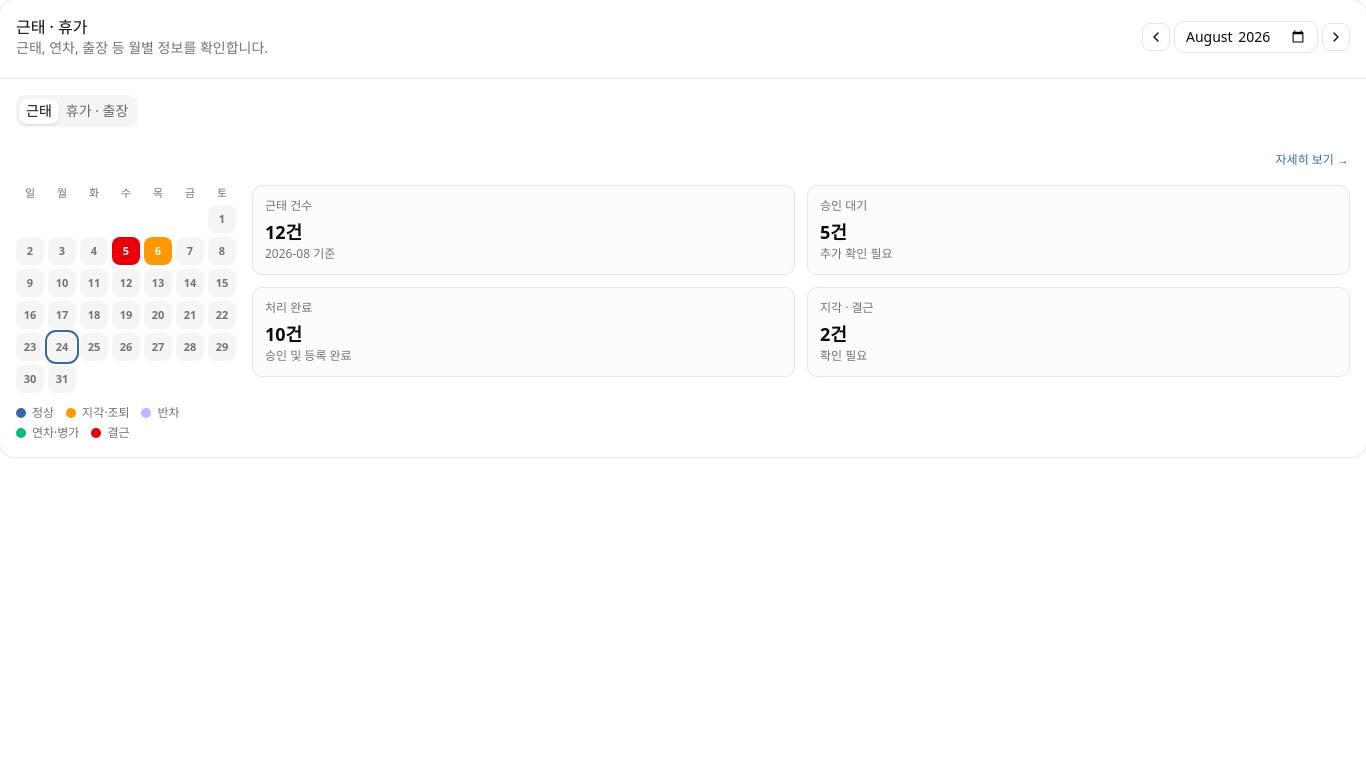
it: PersonalRecordsWidget - 근태 탭(기본 탭) › 통계 타일 4개(근태건수/승인대기/처리완료/지각·결근)와 미니 캘린더를 렌더하고, "자세히 보기" 클릭 시 내 근태 오버레이가 열린다
The image size is (1366, 768).
Expected: the text "12건" is shown, [265, 220, 302, 244]
Expected: the text "5건" is shown, [820, 220, 847, 244]
Click the button "자세히 보기 →".
click(1312, 160)  # box [1274, 151, 1350, 169]
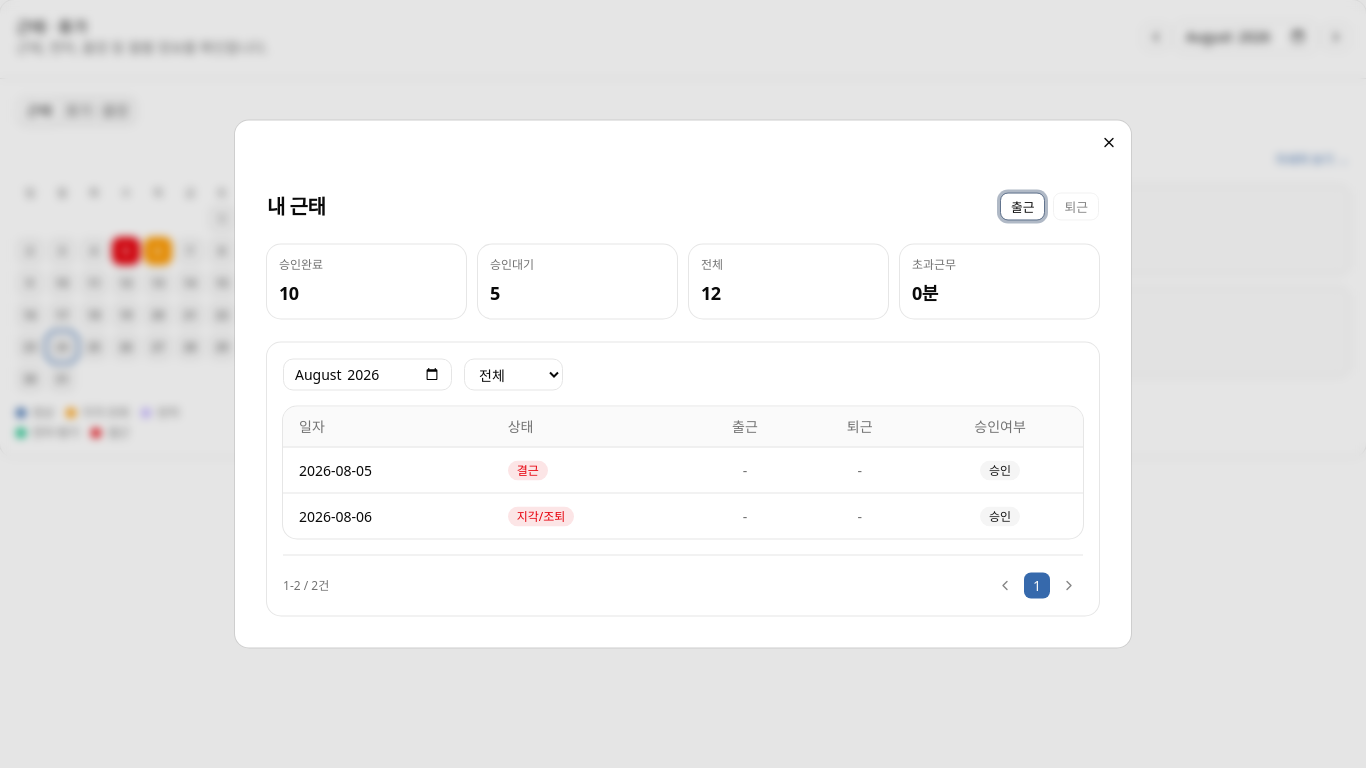
Now the button "출근" is shown, box [1000, 192, 1045, 220]
Now the button "퇴근" is shown, box [1054, 192, 1099, 220]
